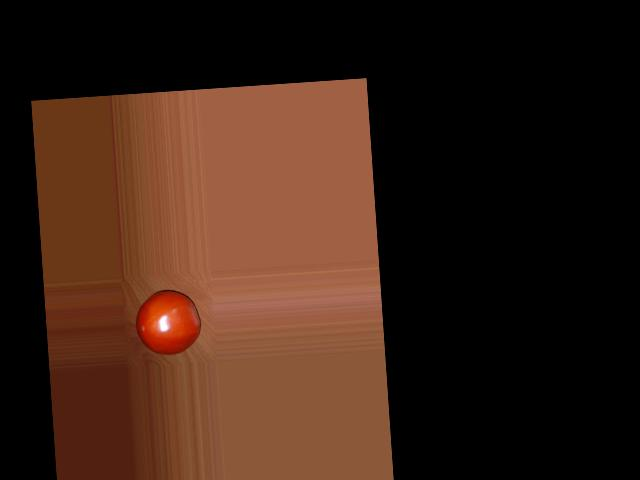tomato: (133, 288, 202, 357)
